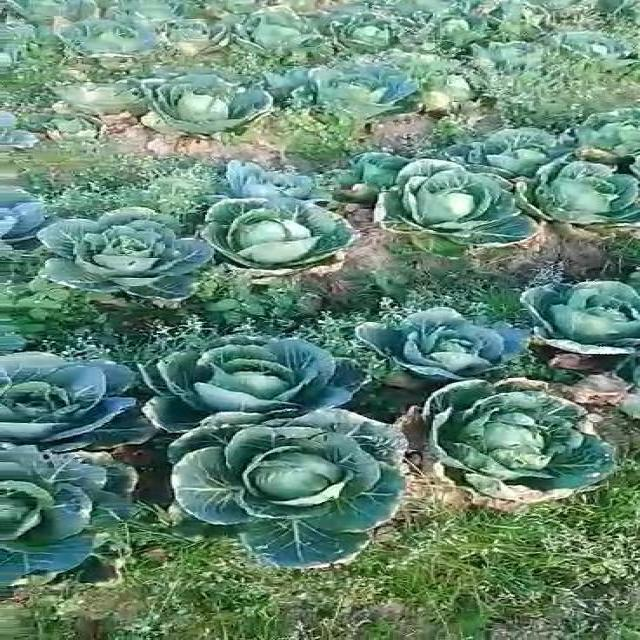Cabbage: (176, 412, 427, 578), (418, 384, 620, 522), (0, 440, 170, 598), (133, 326, 361, 438), (504, 266, 640, 385), (350, 304, 521, 398), (46, 212, 208, 304), (388, 164, 536, 264), (199, 196, 359, 282), (0, 351, 143, 445), (125, 79, 278, 146), (525, 156, 640, 244), (228, 4, 334, 63), (304, 72, 404, 118), (453, 124, 554, 168), (228, 162, 329, 200), (560, 105, 640, 152), (573, 22, 637, 72), (472, 33, 559, 68), (51, 16, 142, 49), (342, 13, 404, 57), (1, 192, 51, 246)
